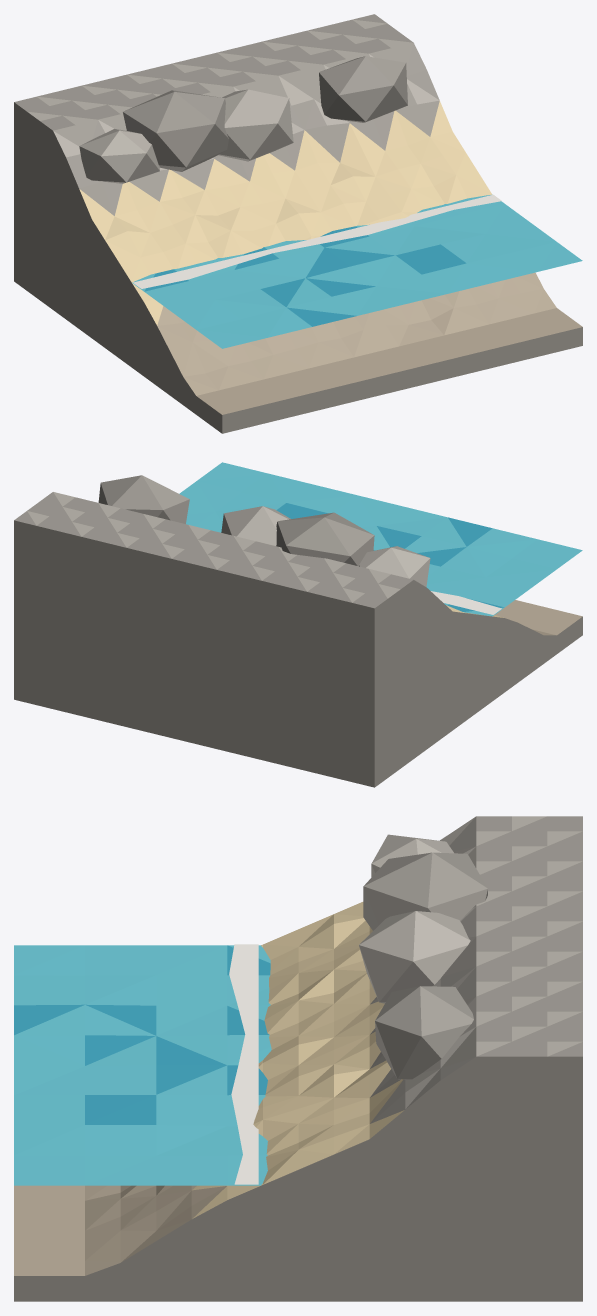
The model's file is shore_bank_sloped.glb.
3 views of the same model, one above another, from view 1: azimuth 30°, elevation 25°; view 2: azimuth 150°, elevation 25°; view 3: azimuth 270°, elevation 25° (orthographic). The views are drawn at different scales.
Visible parts, largest first — view 1: shore_bank_sloped, part_water, part_foam; view 2: shore_bank_sloped, part_water, part_foam; view 3: shore_bank_sloped, part_water, part_foam.
Boxes of the visible parts, bbox=[...] form: shore_bank_sloped: bbox=[14, 14, 582, 433]; part_water: bbox=[132, 194, 582, 348]; part_foam: bbox=[133, 194, 501, 288]; shore_bank_sloped: bbox=[14, 475, 582, 787]; part_water: bbox=[179, 462, 582, 616]; part_foam: bbox=[431, 591, 501, 614]; shore_bank_sloped: bbox=[14, 816, 582, 1301]; part_water: bbox=[14, 945, 271, 1185]; part_foam: bbox=[229, 944, 258, 1184].
Bounding box in the file's own units: 2 × 1.08 × 2.
